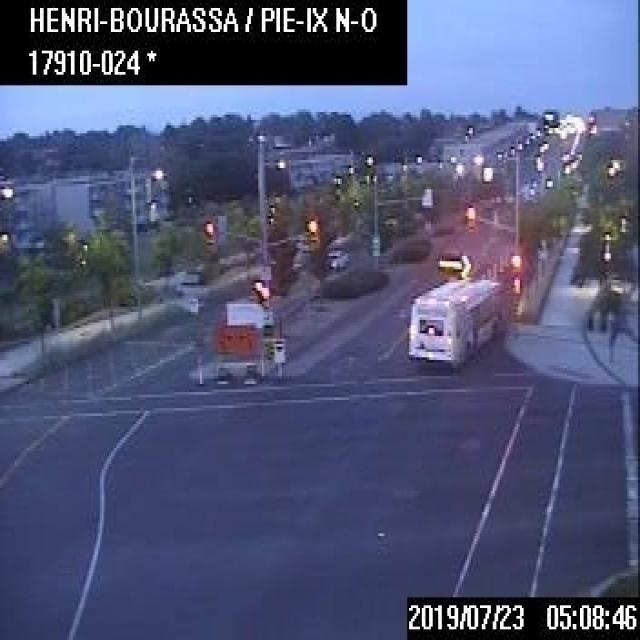bus: (404, 267, 498, 368)
construction: (209, 293, 276, 384), (433, 248, 472, 277)
vehicle: (322, 248, 349, 272)
